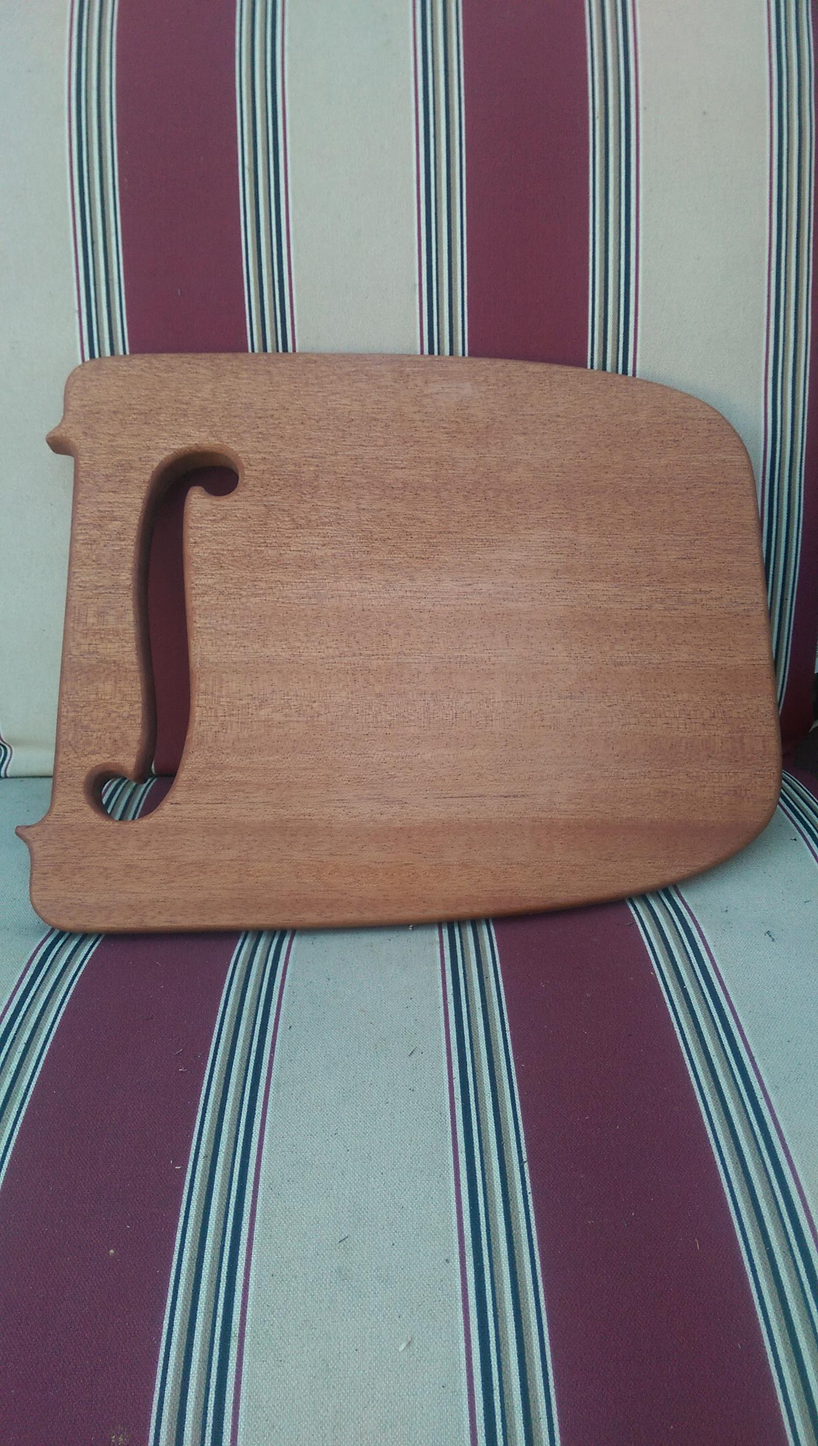gloved_hand: (19, 334, 804, 942)
